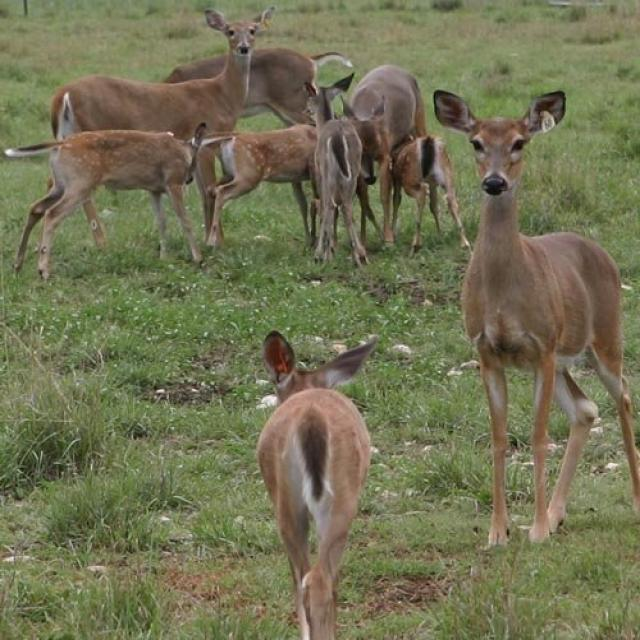not_pig: (432, 87, 640, 547), (48, 3, 278, 294), (255, 329, 378, 639), (4, 119, 207, 279), (301, 70, 372, 273)
